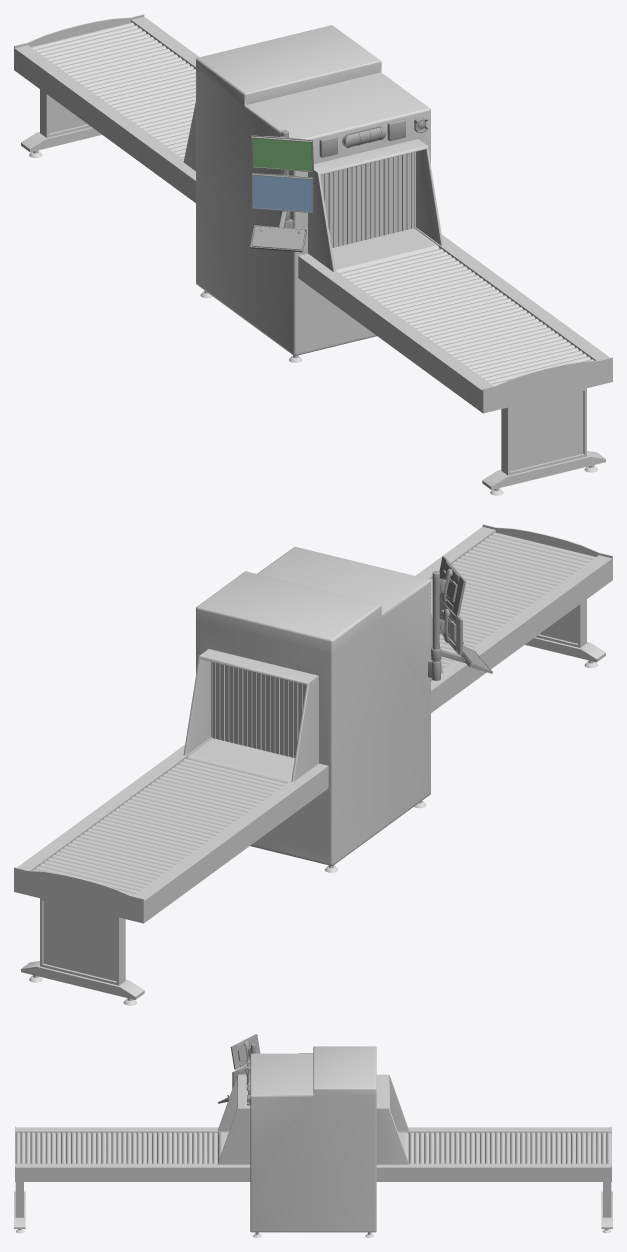
Rendered from Introscope_long.fbx.
3 views of the same model, one above another, from view 1: azimuth 30°, elevation 25°; view 2: azimuth 150°, elevation 25°; view 3: azimuth 270°, elevation 25° (orthographic). The views are drawn at different scales.
Parts seen in each view (by area): view 1: Introscope_long, Introscope_Controls; view 2: Introscope_long, Introscope_Controls; view 3: Introscope_long, Introscope_Controls.
Part boxes in pixels (x1=…): Introscope_long: x1=14, y1=14, x2=612, y2=495; Introscope_Controls: x1=250, y1=130, x2=313, y2=252; Introscope_long: x1=14, y1=524, x2=612, y2=1005; Introscope_Controls: x1=431, y1=556, x2=492, y2=673; Introscope_long: x1=14, y1=1046, x2=612, y2=1237; Introscope_Controls: x1=217, y1=1034, x2=260, y2=1103.
Bounding box in the file's own units: 166 × 196 × 711.
